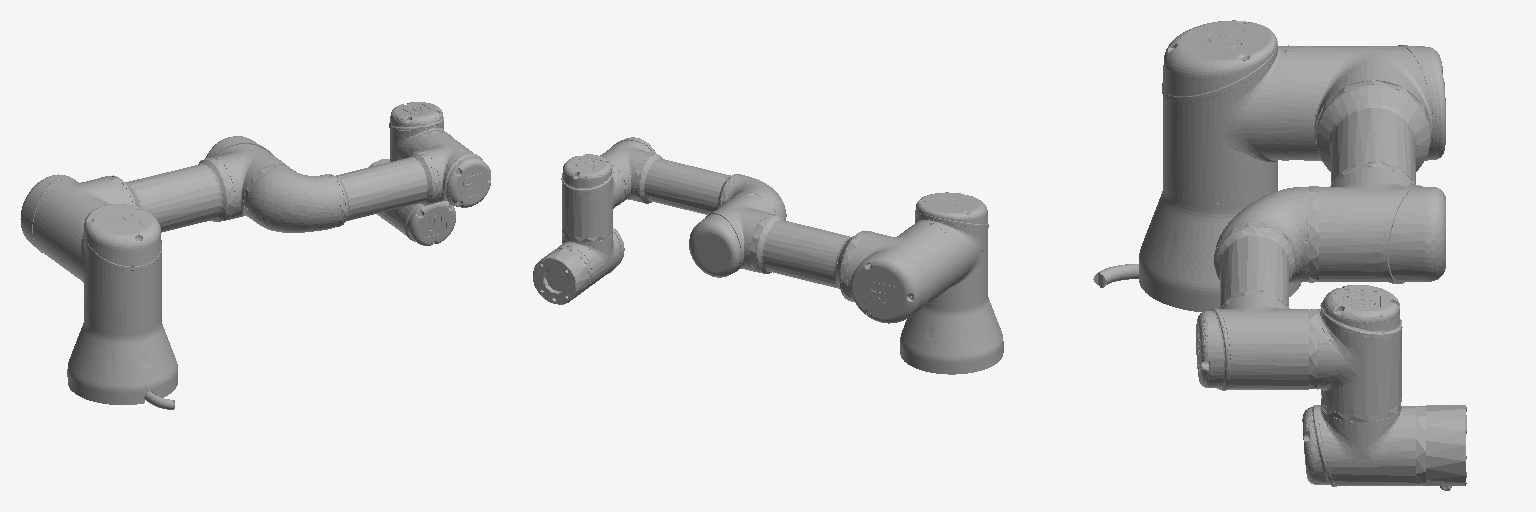
URDF robot description (ur3):
<?xml version="1.0" ?>
<!-- =================================================================================== -->
<!-- |    This document was autogenerated by xacro from urdf/ur3_robot.urdf.xacro      | -->
<!-- |    EDITING THIS FILE BY HAND IS NOT RECOMMENDED                                 | -->
<!-- =================================================================================== -->
<robot name="ur3">
  <gazebo>
    <plugin filename="libgazebo_ros_control.so" name="ros_control">
      <!--robotNamespace>/</robotNamespace-->
      <!--robotSimType>gazebo_ros_control/DefaultRobotHWSim</robotSimType-->
    </plugin>
    <!--
    <plugin name="gazebo_ros_power_monitor_controller" filename="libgazebo_ros_power_monitor.so">
      <alwaysOn>true</alwaysOn>
      <updateRate>1.0</updateRate>
      <timeout>5</timeout>
      <powerStateTopic>power_state</powerStateTopic>
      <powerStateRate>10.0</powerStateRate>
      <fullChargeCapacity>87.78</fullChargeCapacity>     
      <dischargeRate>-474</dischargeRate>
      <chargeRate>525</chargeRate>
      <dischargeVoltage>15.52</dischargeVoltage>
      <chargeVoltage>16.41</chargeVoltage>
    </plugin>
-->
  </gazebo>
  <!--
  Author: [author]
-->
  <!-- measured from model -->
  <link name="base_link">
    <visual>
      <geometry>
        <mesh filename="package://ur_description/meshes/ur3/visual/base.dae"/>
      </geometry>
      <material name="LightGrey">
        <color rgba="0.7 0.7 0.7 1.0"/>
      </material>
    </visual>
    <collision>
      <geometry>
        <mesh filename="package://ur_description/meshes/ur3/collision/base.stl"/>
      </geometry>
    </collision>
    <inertial>
      <mass value="2.0"/>
      <origin rpy="0 0 0" xyz="0.0 0.0 0.0"/>
      <inertia ixx="0.0030531654454" ixy="0.0" ixz="0.0" iyy="0.0030531654454" iyz="0.0" izz="0.005625"/>
    </inertial>
  </link>
  <joint name="shoulder_pan_joint" type="revolute">
    <parent link="base_link"/>
    <child link="shoulder_link"/>
    <origin rpy="0.0 0.0 0.0" xyz="0.0 0.0 0.1519"/>
    <axis xyz="0 0 1"/>
    <limit effort="330.0" lower="-6.283185307179586" upper="6.283185307179586" velocity="2.16"/>
    <dynamics damping="0.0" friction="0.0"/>
  </joint>
  <link name="shoulder_link">
    <visual>
      <geometry>
        <mesh filename="package://ur_description/meshes/ur3/visual/shoulder.dae"/>
      </geometry>
      <material name="LightGrey">
        <color rgba="0.7 0.7 0.7 1.0"/>
      </material>
    </visual>
    <collision>
      <geometry>
        <mesh filename="package://ur_description/meshes/ur3/collision/shoulder.stl"/>
      </geometry>
    </collision>
    <inertial>
      <mass value="2.0"/>
      <origin rpy="0 0 0" xyz="0.0 0.0 0.0"/>
      <inertia ixx="0.008093163429399999" ixy="0.0" ixz="0.0" iyy="0.008093163429399999" iyz="0.0" izz="0.005625"/>
    </inertial>
  </link>
  <joint name="shoulder_lift_joint" type="revolute">
    <parent link="shoulder_link"/>
    <child link="upper_arm_link"/>
    <origin rpy="0.0 1.5707963267948966 0.0" xyz="0.0 0.1198 0.0"/>
    <axis xyz="0 1 0"/>
    <limit effort="330.0" lower="-6.283185307179586" upper="6.283185307179586" velocity="2.16"/>
    <dynamics damping="0.0" friction="0.0"/>
  </joint>
  <link name="upper_arm_link">
    <visual>
      <geometry>
        <mesh filename="package://ur_description/meshes/ur3/visual/upperarm.dae"/>
      </geometry>
      <material name="LightGrey">
        <color rgba="0.7 0.7 0.7 1.0"/>
      </material>
    </visual>
    <collision>
      <geometry>
        <mesh filename="package://ur_description/meshes/ur3/collision/upperarm.stl"/>
      </geometry>
    </collision>
    <inertial>
      <mass value="3.42"/>
      <origin rpy="0 0 0" xyz="0.0 0.0 0.121825"/>
      <inertia ixx="0.021728483221103233" ixy="0.0" ixz="0.0" iyy="0.021728483221103233" iyz="0.0" izz="0.00961875"/>
    </inertial>
  </link>
  <joint name="elbow_joint" type="revolute">
    <parent link="upper_arm_link"/>
    <child link="forearm_link"/>
    <origin rpy="0.0 0.0 0.0" xyz="0.0 -0.0925 0.24365"/>
    <axis xyz="0 1 0"/>
    <limit effort="150.0" lower="-3.141592653589793" upper="3.141592653589793" velocity="3.15"/>
    <dynamics damping="0.0" friction="0.0"/>
  </joint>
  <link name="forearm_link">
    <visual>
      <geometry>
        <mesh filename="package://ur_description/meshes/ur3/visual/forearm.dae"/>
      </geometry>
      <material name="LightGrey">
        <color rgba="0.7 0.7 0.7 1.0"/>
      </material>
    </visual>
    <collision>
      <geometry>
        <mesh filename="package://ur_description/meshes/ur3/collision/forearm.stl"/>
      </geometry>
    </collision>
    <inertial>
      <mass value="1.26"/>
      <origin rpy="0 0 0" xyz="0.0 0.0 0.106625"/>
      <inertia ixx="0.006546806443776375" ixy="0.0" ixz="0.0" iyy="0.006546806443776375" iyz="0.0" izz="0.00354375"/>
    </inertial>
  </link>
  <joint name="wrist_1_joint" type="revolute">
    <parent link="forearm_link"/>
    <child link="wrist_1_link"/>
    <origin rpy="0.0 1.5707963267948966 0.0" xyz="0.0 0.0 0.21325"/>
    <axis xyz="0 1 0"/>
    <limit effort="54.0" lower="-6.283185307179586" upper="6.283185307179586" velocity="3.2"/>
    <dynamics damping="0.0" friction="0.0"/>
  </joint>
  <link name="wrist_1_link">
    <visual>
      <geometry>
        <mesh filename="package://ur_description/meshes/ur3/visual/wrist1.dae"/>
      </geometry>
      <material name="LightGrey">
        <color rgba="0.7 0.7 0.7 1.0"/>
      </material>
    </visual>
    <collision>
      <geometry>
        <mesh filename="package://ur_description/meshes/ur3/collision/wrist1.stl"/>
      </geometry>
    </collision>
    <inertial>
      <mass value="0.8"/>
      <origin rpy="0 0 0" xyz="0.0 0.08505 0.0"/>
      <inertia ixx="0.002084999166" ixy="0.0" ixz="0.0" iyy="0.002084999166" iyz="0.0" izz="0.00225"/>
    </inertial>
  </link>
  <joint name="wrist_2_joint" type="revolute">
    <parent link="wrist_1_link"/>
    <child link="wrist_2_link"/>
    <origin rpy="0.0 0.0 0.0" xyz="0.0 0.08505 0.0"/>
    <axis xyz="0 0 1"/>
    <limit effort="54.0" lower="-6.283185307179586" upper="6.283185307179586" velocity="3.2"/>
    <dynamics damping="0.0" friction="0.0"/>
  </joint>
  <link name="wrist_2_link">
    <visual>
      <geometry>
        <mesh filename="package://ur_description/meshes/ur3/visual/wrist2.dae"/>
      </geometry>
      <material name="LightGrey">
        <color rgba="0.7 0.7 0.7 1.0"/>
      </material>
    </visual>
    <collision>
      <geometry>
        <mesh filename="package://ur_description/meshes/ur3/collision/wrist2.stl"/>
      </geometry>
    </collision>
    <inertial>
      <mass value="0.8"/>
      <origin rpy="0 0 0" xyz="0.0 0.0 0.08535"/>
      <inertia ixx="0.002084999166" ixy="0.0" ixz="0.0" iyy="0.002084999166" iyz="0.0" izz="0.00225"/>
    </inertial>
  </link>
  <joint name="wrist_3_joint" type="revolute">
    <parent link="wrist_2_link"/>
    <child link="wrist_3_link"/>
    <origin rpy="0.0 0.0 0.0" xyz="0.0 0.0 0.08535"/>
    <axis xyz="0 1 0"/>
    <limit effort="54.0" lower="-6.283185307179586" upper="6.283185307179586" velocity="3.2"/>
    <dynamics damping="0.0" friction="0.0"/>
  </joint>
  <link name="wrist_3_link">
    <visual>
      <geometry>
        <mesh filename="package://ur_description/meshes/ur3/visual/wrist3.dae"/>
      </geometry>
      <material name="LightGrey">
        <color rgba="0.7 0.7 0.7 1.0"/>
      </material>
    </visual>
    <collision>
      <geometry>
        <mesh filename="package://ur_description/meshes/ur3/collision/wrist3.stl"/>
      </geometry>
    </collision>
    <inertial>
      <mass value="0.35"/>
      <origin rpy="1.5707963267948966 0 0" xyz="0.0 0.0619 0.0"/>
      <inertia ixx="0.00013626661215999998" ixy="0.0" ixz="0.0" iyy="0.00013626661215999998" iyz="0.0" izz="0.0001792"/>
    </inertial>
  </link>
  <joint name="ee_fixed_joint" type="fixed">
    <parent link="wrist_3_link"/>
    <child link="ee_link"/>
    <origin rpy="0.0 0.0 1.5707963267948966" xyz="0.0 0.0819 0.0"/>
  </joint>
  <link name="ee_link">
    <collision>
      <geometry>
        <box size="0.01 0.01 0.01"/>
      </geometry>
      <origin rpy="0 0 0" xyz="-0.01 0 0"/>
    </collision>
  </link>
  <transmission name="shoulder_pan_trans">
    <type>transmission_interface/SimpleTransmission</type>
    <joint name="shoulder_pan_joint">
      <hardwareInterface>hardware_interface/PositionJointInterface</hardwareInterface>
    </joint>
    <actuator name="shoulder_pan_motor">
      <mechanicalReduction>1</mechanicalReduction>
    </actuator>
  </transmission>
  <transmission name="shoulder_lift_trans">
    <type>transmission_interface/SimpleTransmission</type>
    <joint name="shoulder_lift_joint">
      <hardwareInterface>hardware_interface/PositionJointInterface</hardwareInterface>
    </joint>
    <actuator name="shoulder_lift_motor">
      <mechanicalReduction>1</mechanicalReduction>
    </actuator>
  </transmission>
  <transmission name="elbow_trans">
    <type>transmission_interface/SimpleTransmission</type>
    <joint name="elbow_joint">
      <hardwareInterface>hardware_interface/PositionJointInterface</hardwareInterface>
    </joint>
    <actuator name="elbow_motor">
      <mechanicalReduction>1</mechanicalReduction>
    </actuator>
  </transmission>
  <transmission name="wrist_1_trans">
    <type>transmission_interface/SimpleTransmission</type>
    <joint name="wrist_1_joint">
      <hardwareInterface>hardware_interface/PositionJointInterface</hardwareInterface>
    </joint>
    <actuator name="wrist_1_motor">
      <mechanicalReduction>1</mechanicalReduction>
    </actuator>
  </transmission>
  <transmission name="wrist_2_trans">
    <type>transmission_interface/SimpleTransmission</type>
    <joint name="wrist_2_joint">
      <hardwareInterface>hardware_interface/PositionJointInterface</hardwareInterface>
    </joint>
    <actuator name="wrist_2_motor">
      <mechanicalReduction>1</mechanicalReduction>
    </actuator>
  </transmission>
  <transmission name="wrist_3_trans">
    <type>transmission_interface/SimpleTransmission</type>
    <joint name="wrist_3_joint">
      <hardwareInterface>hardware_interface/PositionJointInterface</hardwareInterface>
    </joint>
    <actuator name="wrist_3_motor">
      <mechanicalReduction>1</mechanicalReduction>
    </actuator>
  </transmission>
  <gazebo reference="shoulder_link">
    <selfCollide>true</selfCollide>
  </gazebo>
  <gazebo reference="upper_arm_link">
    <selfCollide>true</selfCollide>
  </gazebo>
  <gazebo reference="forearm_link">
    <selfCollide>true</selfCollide>
  </gazebo>
  <gazebo reference="wrist_1_link">
    <selfCollide>true</selfCollide>
  </gazebo>
  <gazebo reference="wrist_3_link">
    <selfCollide>true</selfCollide>
  </gazebo>
  <gazebo reference="wrist_2_link">
    <selfCollide>true</selfCollide>
  </gazebo>
  <gazebo reference="ee_link">
    <selfCollide>true</selfCollide>
  </gazebo>
  <!-- ROS base_link to UR 'Base' Coordinates transform -->
  <link name="base"/>
  <joint name="base_link-base_fixed_joint" type="fixed">
    <!-- NOTE: this rotation is only needed as long as base_link itself is
                 not corrected wrt the real robot (ie: rotated over 180
                 degrees)
      -->
    <origin rpy="0 0 -3.141592653589793" xyz="0 0 0"/>
    <parent link="base_link"/>
    <child link="base"/>
  </joint>
  <!-- Frame coincident with all-zeros TCP on UR controller -->
  <link name="tool0"/>
  <joint name="wrist_3_link-tool0_fixed_joint" type="fixed">
    <origin rpy="-1.5707963267948966 0 0" xyz="0 0.0819 0"/>
    <parent link="wrist_3_link"/>
    <child link="tool0"/>
  </joint>
  <link name="world"/>
  <joint name="world_joint" type="fixed">
    <parent link="world"/>
    <child link="base_link"/>
    <origin rpy="0.0 0.0 0.0" xyz="0.0 0.0 0.0"/>
  </joint>
</robot>

--- Facts derived from the render (not from the file) ---
Views: 3 orthographic renders of the robot side by side, from view 1: azimuth 30°, elevation 25°; view 2: azimuth 150°, elevation 25°; view 3: azimuth 270°, elevation 25°.
Model ur3 with 11 links and 10 joints (6 revolute, 4 fixed), rooted at world, posed all joints at 0.
Visible links, largest first — view 1: forearm_link, upper_arm_link, shoulder_link, base_link, wrist_1_link, wrist_2_link; view 2: upper_arm_link, forearm_link, base_link, shoulder_link, wrist_1_link, wrist_3_link, wrist_2_link; view 3: upper_arm_link, shoulder_link, forearm_link, wrist_1_link, base_link, wrist_2_link, wrist_3_link.
Boxes of the visible links, bbox=[...] form: forearm_link: bbox=[247, 132, 490, 232]; upper_arm_link: bbox=[20, 136, 289, 273]; shoulder_link: bbox=[66, 204, 161, 330]; base_link: bbox=[67, 316, 177, 409]; wrist_1_link: bbox=[389, 102, 451, 161]; wrist_2_link: bbox=[378, 201, 455, 245]; upper_arm_link: bbox=[689, 192, 960, 323]; forearm_link: bbox=[600, 137, 786, 220]; base_link: bbox=[900, 293, 1003, 374]; shoulder_link: bbox=[912, 192, 988, 304]; wrist_1_link: bbox=[561, 154, 625, 237]; wrist_3_link: bbox=[533, 246, 591, 304]; wrist_2_link: bbox=[555, 228, 624, 288]; upper_arm_link: bbox=[1289, 45, 1445, 283]; shoulder_link: bbox=[1162, 20, 1288, 203]; forearm_link: bbox=[1196, 187, 1308, 390]; wrist_1_link: bbox=[1309, 285, 1402, 414]; base_link: bbox=[1093, 182, 1301, 311]; wrist_2_link: bbox=[1302, 397, 1415, 486]; wrist_3_link: bbox=[1416, 405, 1466, 490].
Bounding box of the posed robot: 0.5531 × 0.2923 × 0.2097 m (x, y, z).
7 mesh visuals loaded from 7 distinct referenced files (7 Collada DAE).